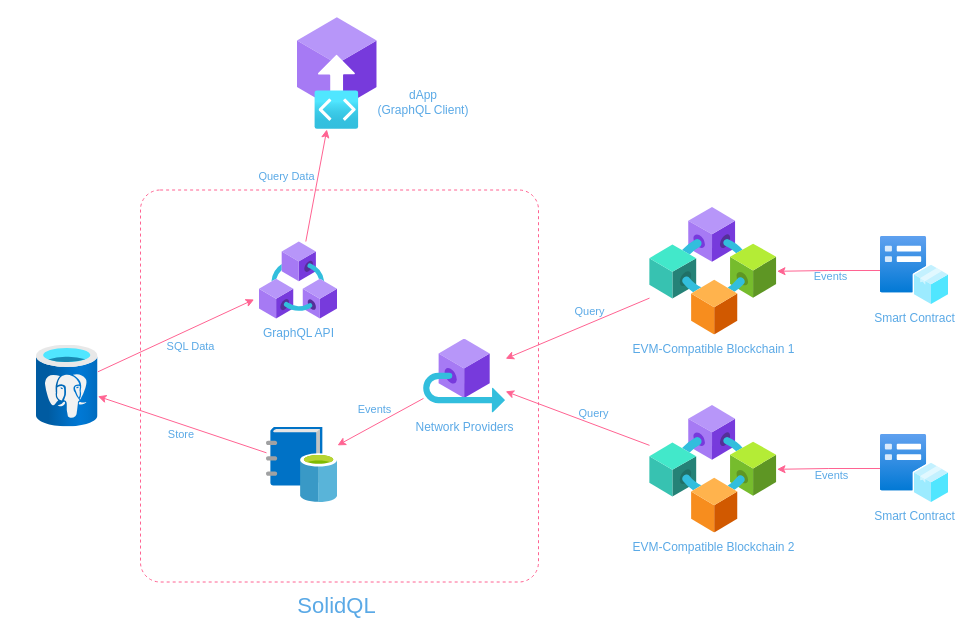
Some shapes in this 971 by 638 pixel diagram are drawn without their labels. The shapes that lost their labels are listed below. From the top down, each one's centre as x and y in pixels, then its label:
At (67,385): "Postgres Database".
At (301,464): "Data Indexer".
